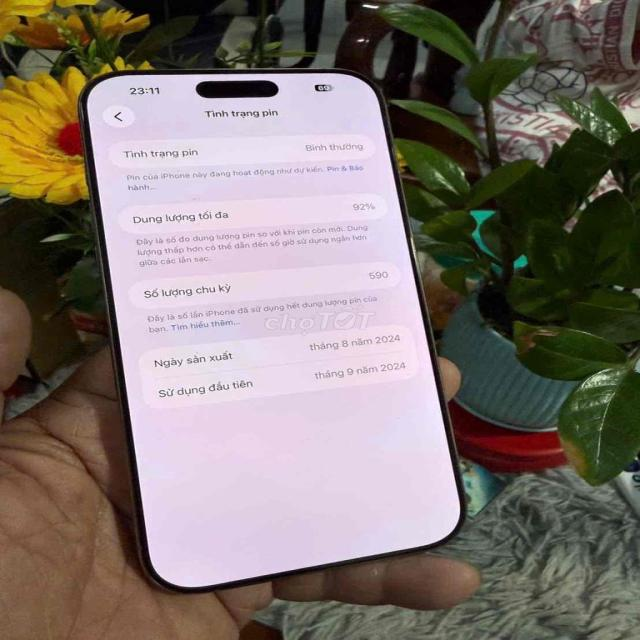gen_16: (78, 69, 463, 591)
